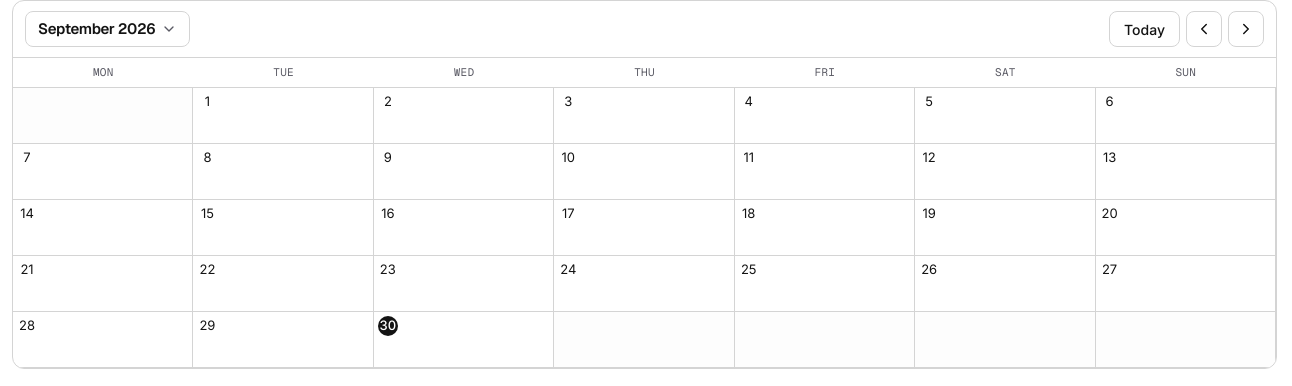
MonthGrid header navigation (item 8) › tapping the header again goes back up one level, then closes
Click the button "September 2026".
click(108, 29)  # box [25, 11, 190, 47]
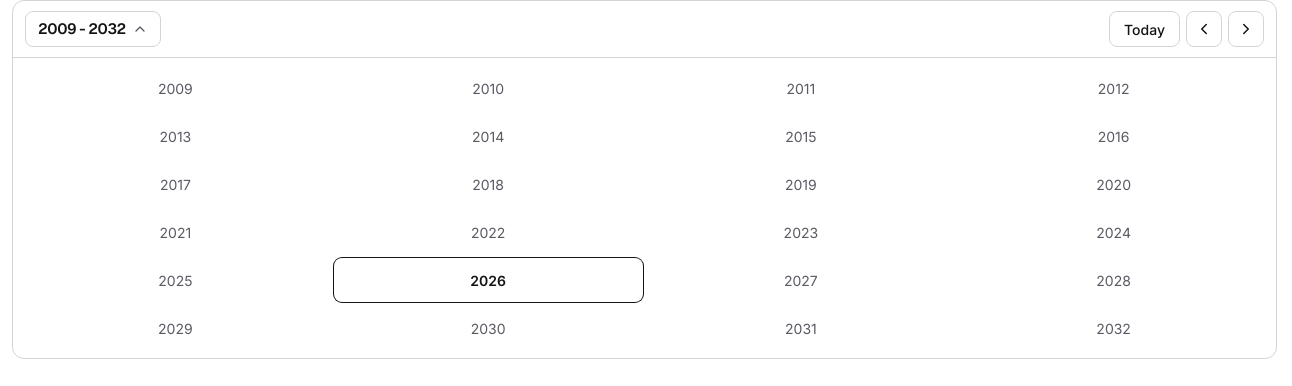
Click the button "2020".
click(1114, 184)  # box [959, 162, 1268, 206]
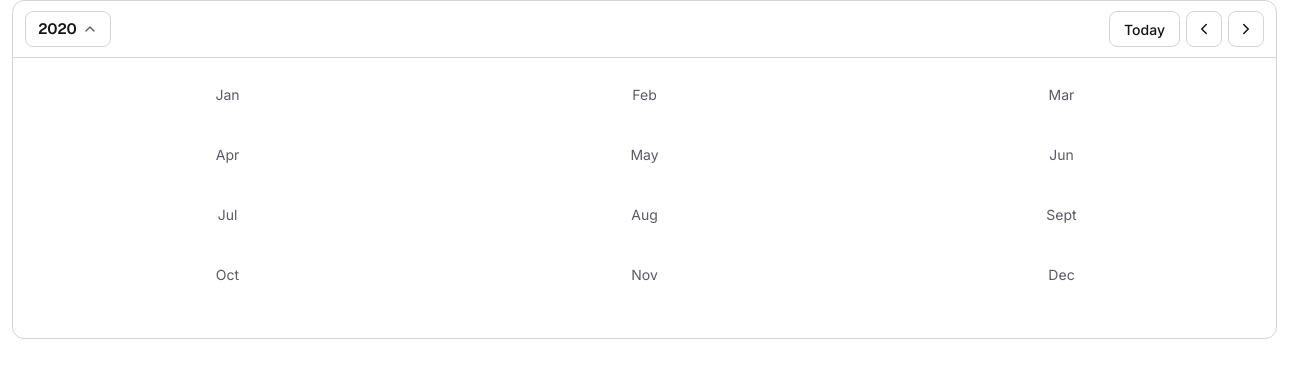
Result: the element with test id "month-grid" is shown
Click the button "2020".
click(68, 29)  # box [25, 11, 111, 47]
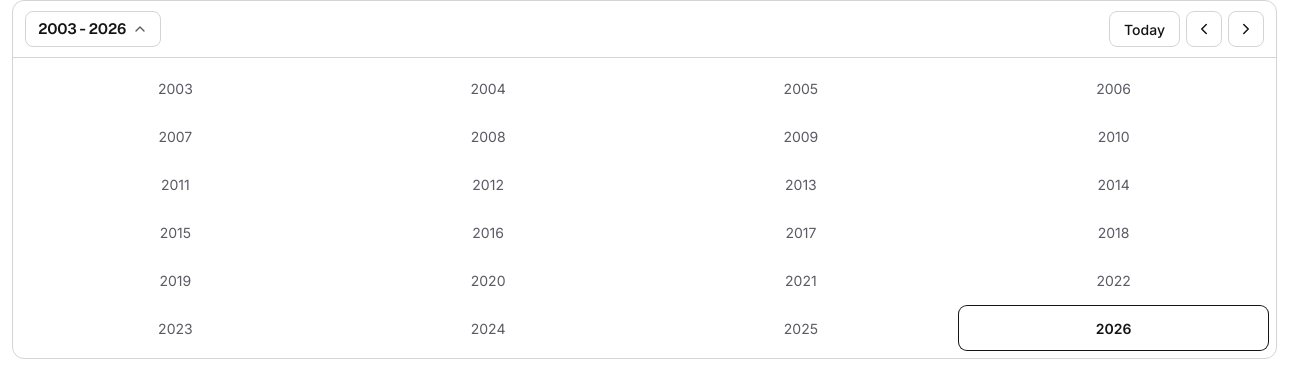
Result: the element with test id "year-grid" is shown
Click the button named "back".
click(93, 29)  # box [25, 11, 161, 47]
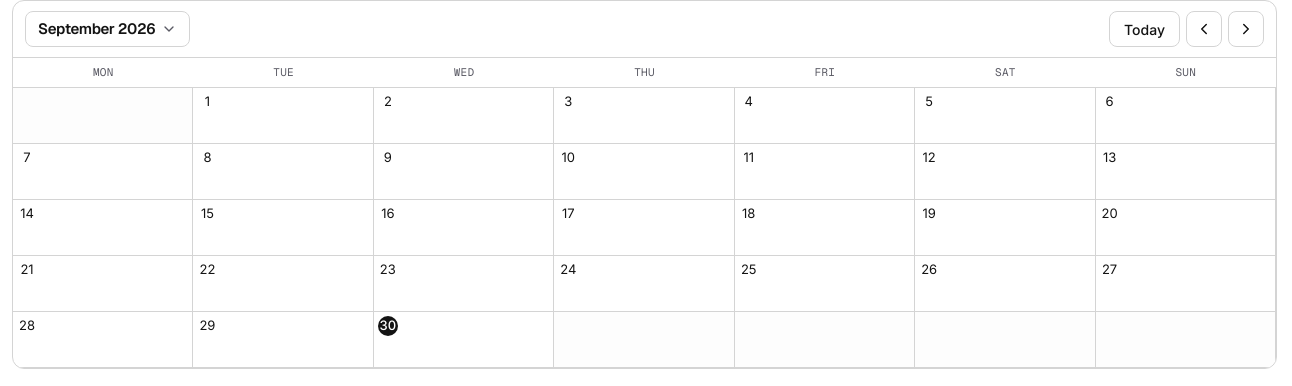
Result: the element with test id "year-grid" is gone
Result: the button "September 2026" is shown at [25, 11, 190, 47]
